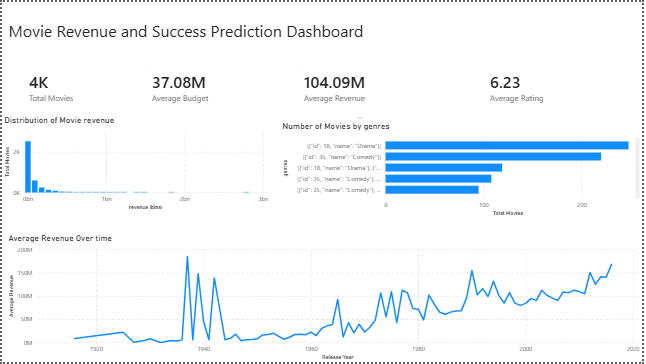

Layout of this report page (visuals, bound fields, positions):
{"tool":"powerbi","page":{"name":"Overview","canvas":[1280,720],"ordinal":0},"visuals":[{"type":"cardVisual","fields":{"Data":["tmdb_processed.Total Movies"]},"box":[15,110,300,120],"z":2000},{"type":"cardVisual","fields":{"Data":["tmdb_processed.Average Rating"]},"box":[967.6,109.2,300.7,120.9],"z":3000},{"type":"cardVisual","fields":{"Data":["tmdb_processed.Average Budget"]},"box":[332.6,109.2,299,120.9],"z":4000},{"type":"cardVisual","fields":{"Data":["tmdb_processed.Average Revenue"]},"box":[650.1,109.2,299,120.9],"z":5000},{"type":"textbox","box":[23,503,493,87],"z":6000},{"type":"clusteredColumnChart","title":"Distribution of Box Office Revenue ","fields":{"Category":["tmdb_processed.revenue (bins)"],"Y":["tmdb_processed.Total Movies"]},"box":[14.9,242.5,620,199.9],"z":7000},{"type":"clusteredBarChart","title":"Top Genres by Number of Movies","fields":{"Category":["tmdb_processed.genres.1"],"Y":["tmdb_processed.Total Movies"]},"box":[647.7,241.9,619.8,199.9],"z":8000},{"type":"lineChart","title":"Average Revenue Over time","fields":{"Category":["tmdb_processed.Release Year"],"Y":["tmdb_processed.Average Revenue"]},"box":[15.1,451.9,1253.1,258.7],"z":9000},{"type":"textbox","box":[8,30,1272,66],"z":10000}]}

Visuals, with their boxes in screenshot pixels (x1, y1, x2, y2), scaled from the page's 1280x720 canvas onto the 646x364 screenshot:
cardVisual - tmdb_processed.Total Movies: {"x1": 8, "y1": 56, "x2": 159, "y2": 116}
cardVisual - tmdb_processed.Average Rating: {"x1": 488, "y1": 55, "x2": 640, "y2": 116}
cardVisual - tmdb_processed.Average Budget: {"x1": 168, "y1": 55, "x2": 319, "y2": 116}
cardVisual - tmdb_processed.Average Revenue: {"x1": 328, "y1": 55, "x2": 479, "y2": 116}
textbox: {"x1": 12, "y1": 254, "x2": 260, "y2": 298}
"Distribution of Box Office Revenue " clusteredColumnChart: {"x1": 8, "y1": 123, "x2": 320, "y2": 224}
"Top Genres by Number of Movies" clusteredBarChart: {"x1": 327, "y1": 122, "x2": 640, "y2": 223}
"Average Revenue Over time" lineChart: {"x1": 8, "y1": 228, "x2": 640, "y2": 359}
textbox: {"x1": 4, "y1": 15, "x2": 645, "y2": 49}
